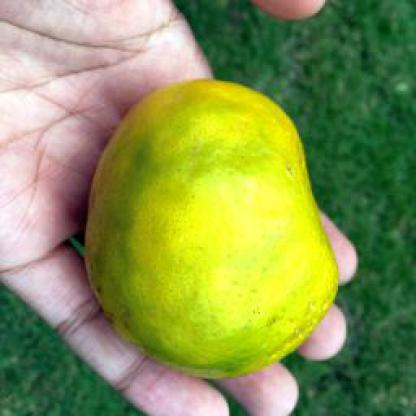orange: (81, 76, 343, 386)
